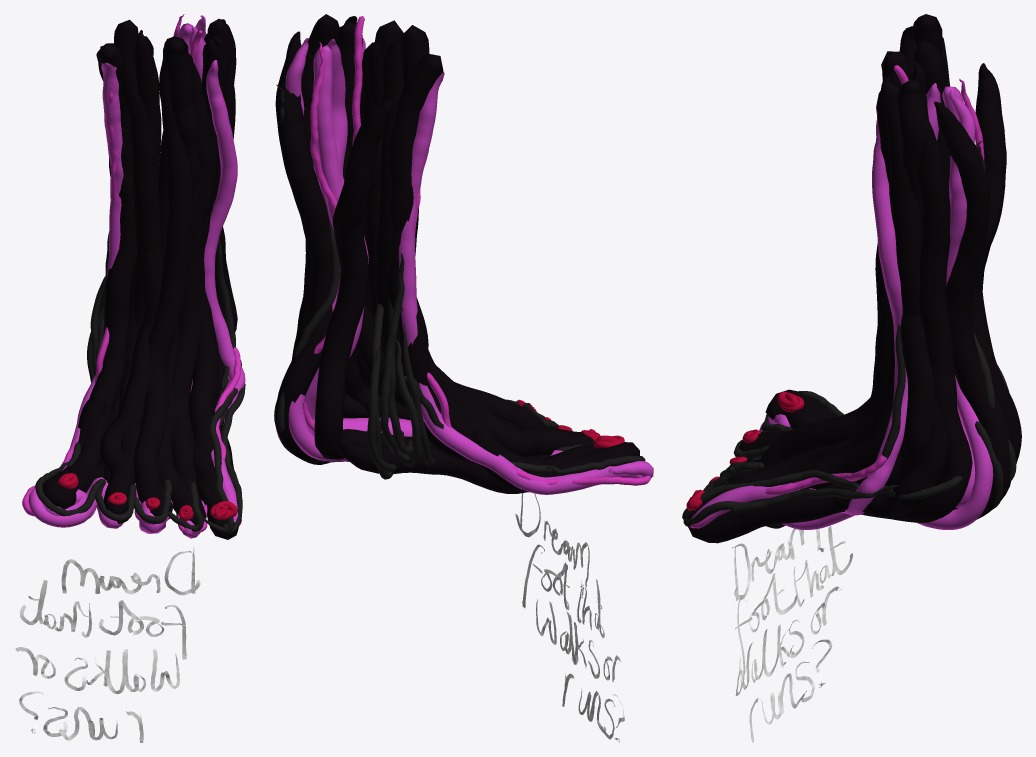
3 renders of one model, left to right at view 1: azimuth 30°, elevation 25°; view 2: azimuth 150°, elevation 25°; view 3: azimuth 270°, elevation 25°, orthographic. The views are drawn at different scales.
Parts seen in each view (by area): view 1: brush_Wire_g0_b0, brush_DoubleTaperedMarker_g0_b0; view 2: brush_Wire_g0_b0, brush_DoubleTaperedMarker_g0_b0; view 3: brush_Wire_g0_b0, brush_DoubleTaperedMarker_g0_b0.
Part boxes in pixels (x1,y1,x2,y2): brush_Wire_g0_b0: (22, 14, 245, 539); brush_DoubleTaperedMarker_g0_b0: (14, 546, 200, 742); brush_Wire_g0_b0: (274, 14, 653, 494); brush_DoubleTaperedMarker_g0_b0: (515, 493, 624, 742); brush_Wire_g0_b0: (682, 14, 1021, 543); brush_DoubleTaperedMarker_g0_b0: (732, 526, 852, 742).
Bounding box in the file's own units: 0.5726 × 1.35 × 0.5429.
